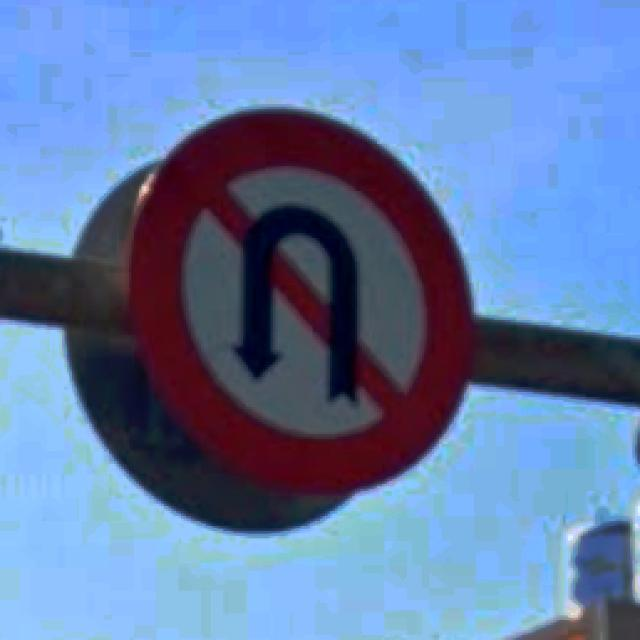nouturn: (127, 109, 476, 496)
